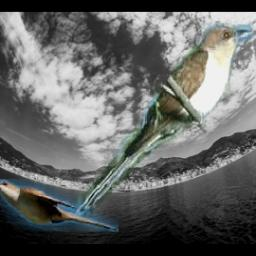Cuckoo: (66, 22, 256, 230), (0, 179, 118, 231)
